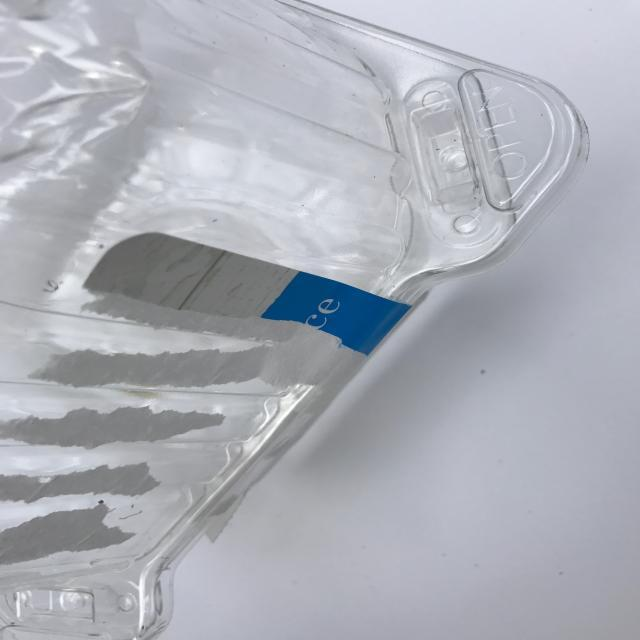plastic: (2, 1, 596, 640)
